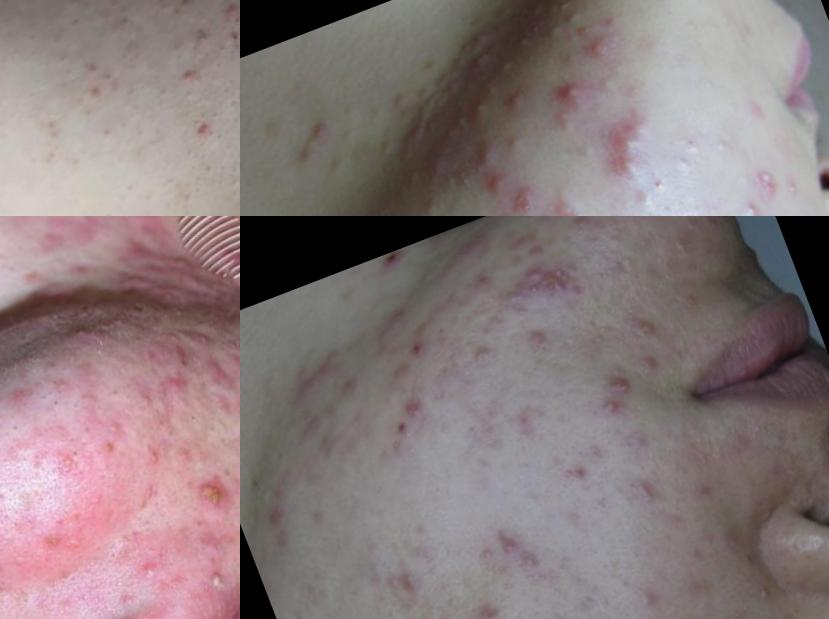blackhead: (625, 581, 667, 619), (190, 151, 229, 181), (585, 489, 617, 523), (1, 458, 24, 500), (4, 418, 29, 442), (1, 587, 9, 611)
cystic: (599, 106, 660, 162), (460, 126, 510, 181), (174, 404, 208, 435)
keloid: (109, 217, 195, 294), (169, 265, 232, 330), (214, 318, 241, 401)
papular: (28, 508, 98, 572), (41, 433, 101, 489), (368, 562, 431, 615), (54, 313, 116, 362), (504, 543, 556, 588), (149, 364, 199, 410), (622, 468, 666, 517), (513, 234, 563, 276), (377, 354, 425, 396), (164, 50, 204, 94), (465, 261, 506, 302), (397, 393, 438, 433), (462, 335, 500, 378), (127, 382, 166, 422), (661, 227, 701, 266), (589, 390, 629, 428), (556, 457, 594, 497), (519, 321, 559, 358), (255, 501, 294, 538), (631, 346, 668, 384), (505, 181, 544, 217), (97, 410, 136, 446), (686, 473, 725, 509), (41, 367, 78, 404), (136, 438, 173, 473), (564, 217, 604, 243), (214, 1, 241, 26), (226, 443, 241, 484)
purulent: (189, 539, 241, 607), (186, 470, 240, 524), (617, 313, 668, 355), (480, 172, 519, 213), (488, 524, 529, 563), (126, 552, 166, 588), (610, 155, 649, 191), (551, 189, 586, 217), (473, 596, 513, 619), (559, 77, 587, 106)
sebo-crystan-conglo: (498, 249, 591, 329), (583, 28, 629, 68), (597, 362, 636, 401), (750, 159, 783, 200), (510, 181, 545, 217)
whitehead: (739, 565, 791, 619), (543, 10, 590, 47), (364, 133, 402, 166), (424, 65, 461, 94), (544, 1, 622, 13), (413, 189, 446, 217), (532, 1, 575, 21), (495, 53, 523, 78), (439, 118, 463, 146), (467, 96, 491, 120)
